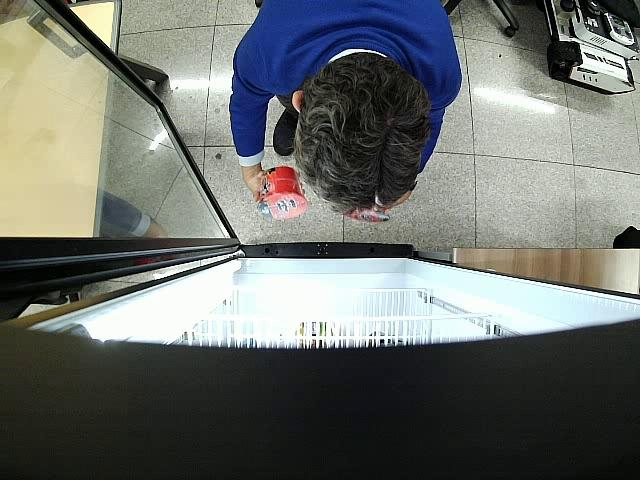00_hand: (242, 164, 267, 196)
01_shinRamen_L: (255, 166, 308, 221), (344, 205, 392, 223)
